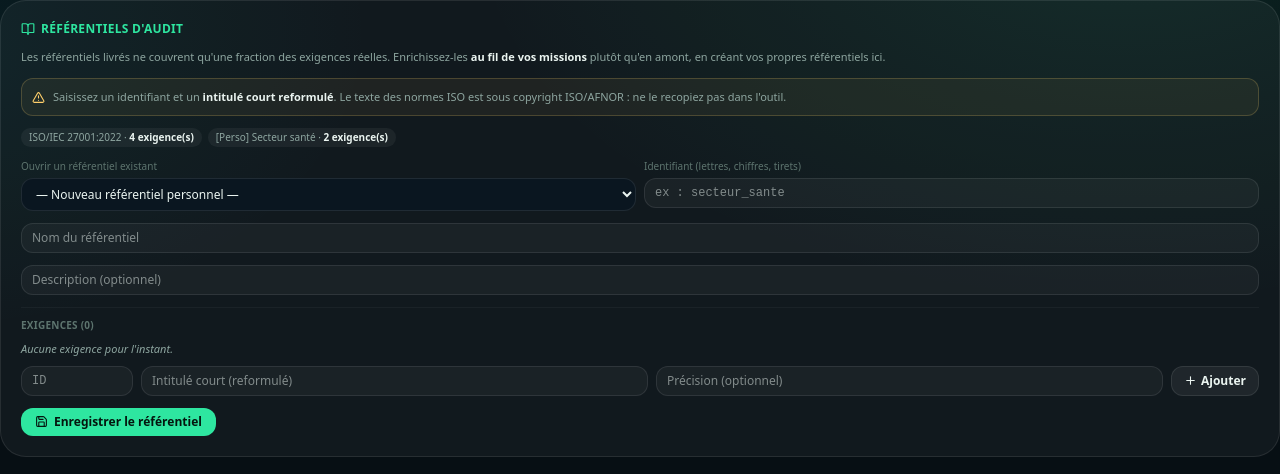
Scenario: ReferentielsPanel › refuse une exigence sans identifiant ou sans intitulé
The width and height of the screenshot is (1280, 474).
Type "SANTE-02" into the field named "Identifiant de l'exigence".
click(77, 380); type("SANTE-02")  # box top-left (21, 366), bottom-right (133, 396)
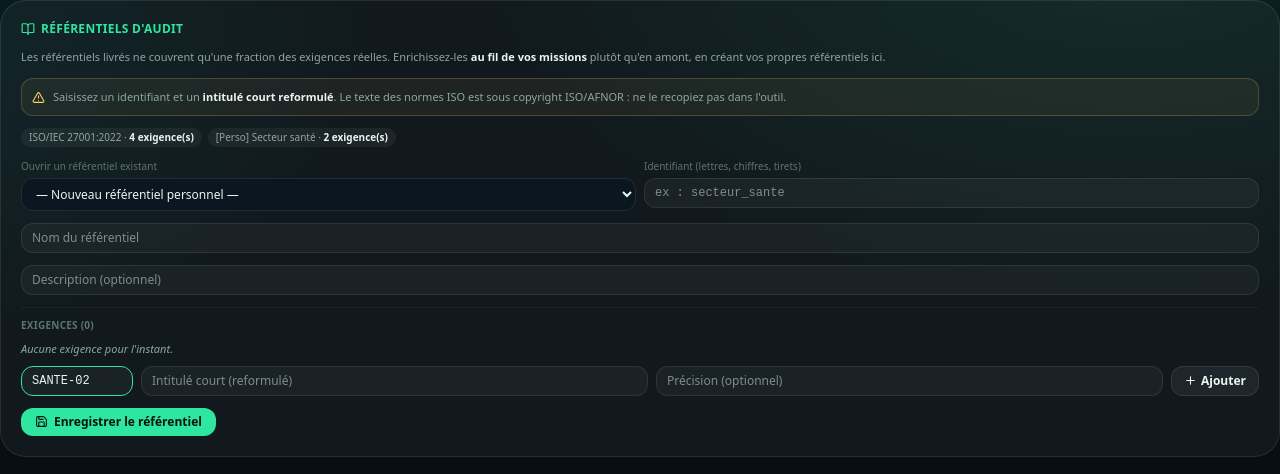
Click the button "Ajouter".
click(1215, 380)  # box top-left (1171, 366), bottom-right (1259, 396)
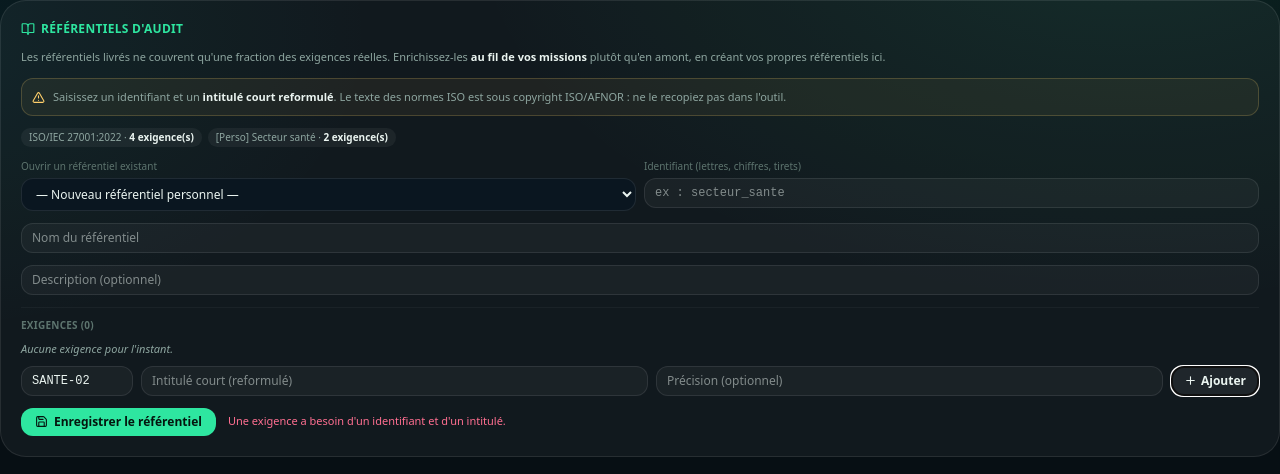
Result: the text "Une exigence a besoin d'un identifiant et d'un intitulé." is shown at top-left (228, 413), bottom-right (506, 430)
